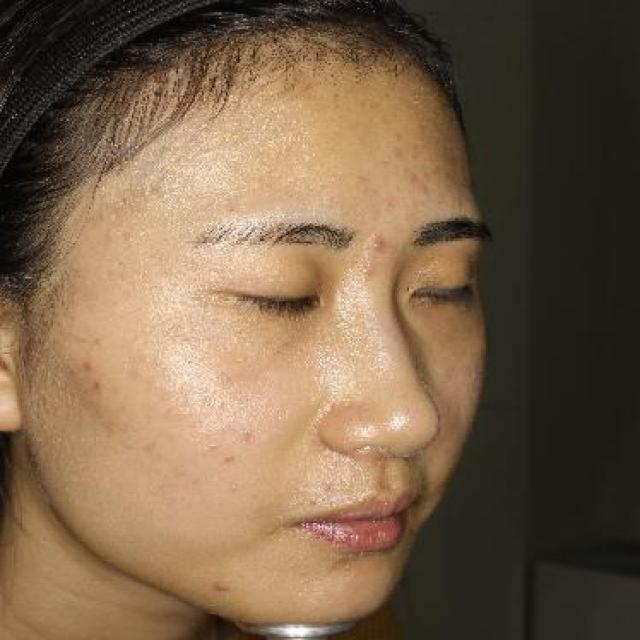acne: (72, 356, 101, 379), (84, 377, 109, 397)
nodules: (360, 229, 396, 254), (207, 574, 238, 600), (255, 522, 282, 543), (207, 395, 233, 414), (200, 435, 226, 454)
